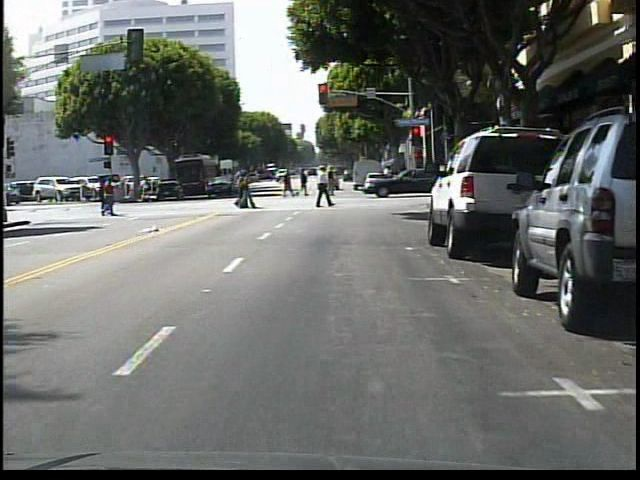person: (314, 163, 337, 214), (137, 172, 156, 202), (328, 167, 341, 196)
